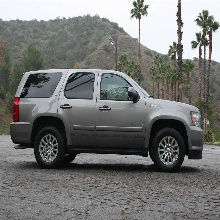no damage: (10, 67, 205, 172)
